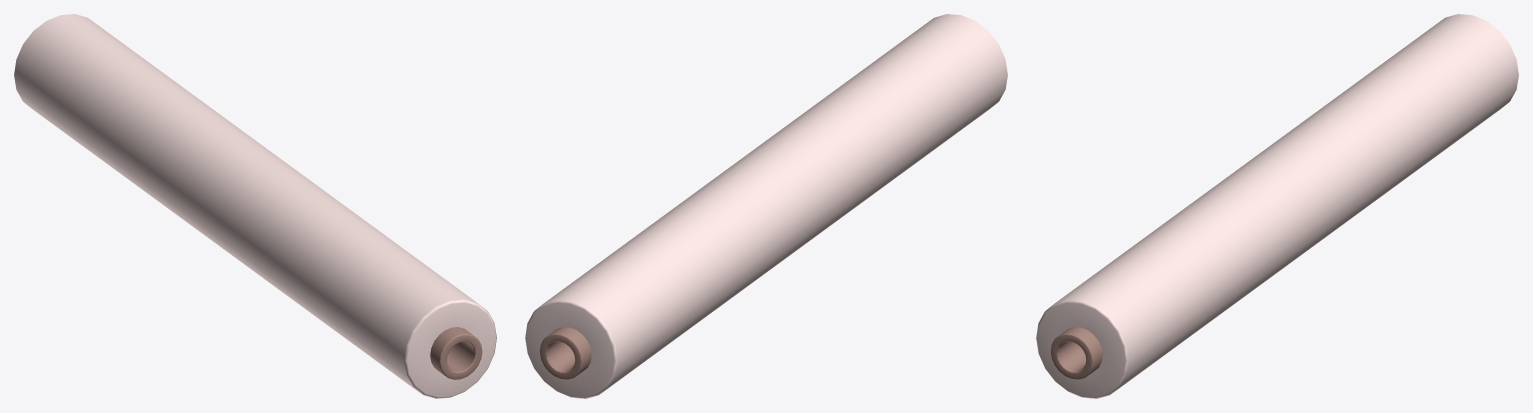
File: Public_19_Fabric_Roll_2.glb
The picture shows the model from 3 angles, left to right: view 1: azimuth 30°, elevation 25°; view 2: azimuth 150°, elevation 25°; view 3: azimuth 330°, elevation 25°; orthographic projection.
Visible parts, largest first — view 1: Public_19_Fabric_Roll_2; view 2: Public_19_Fabric_Roll_2; view 3: Public_19_Fabric_Roll_2.
Boxes of the visible parts, x1,y1,x2,y2 form: Public_19_Fabric_Roll_2: (14, 14, 496, 398); Public_19_Fabric_Roll_2: (525, 14, 1007, 398); Public_19_Fabric_Roll_2: (1036, 14, 1518, 398).
Size of the model in its own units: 0.3972 by 0.3971 by 3.04.
Materials: 1 (1 with a texture image).
